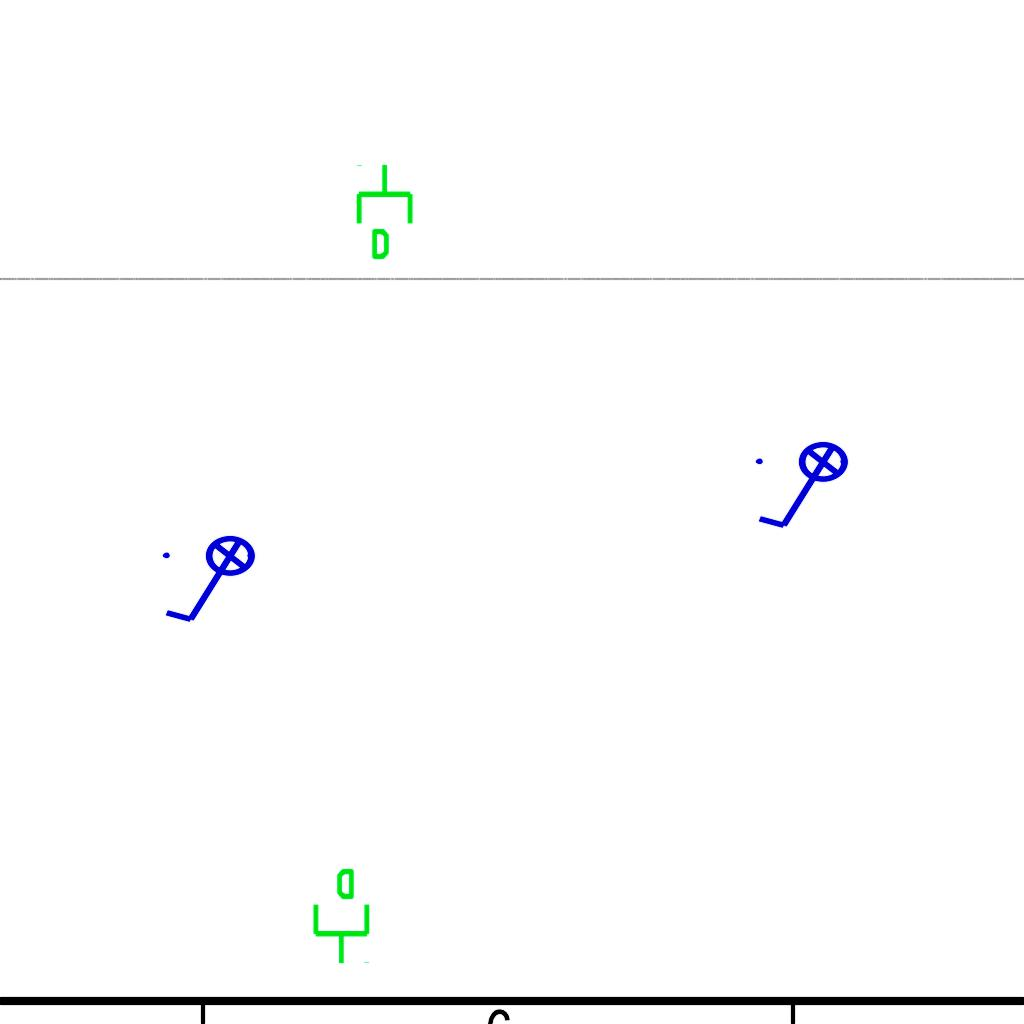Ausschalter_beleuchtet: (157, 534, 269, 630), (750, 440, 862, 536)
Datenanschluss_einfach: (305, 866, 374, 966), (352, 162, 421, 262)
